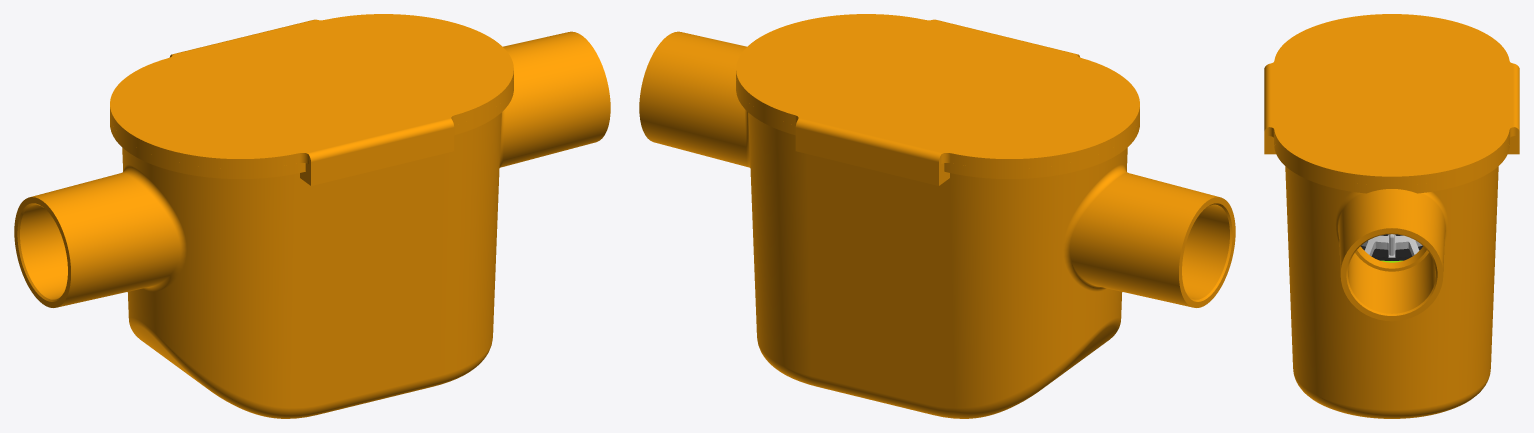
Rendered from cold.glb.
3 renders of one model, left to right at view 1: azimuth 30°, elevation 25°; view 2: azimuth 150°, elevation 25°; view 3: azimuth 270°, elevation 25°, orthographic. The views are drawn at different scales.
Visible parts, largest first — view 1: BA113_MAIN_BODY_A1, COVER_01_123; view 2: BA113_MAIN_BODY_A1, COVER_01_123; view 3: BA113_MAIN_BODY_A1, COVER_01_123, FILTER_45MM, PK505_2INCH_BASE.
Boxes of the visible parts, bbox=[...] form: BA113_MAIN_BODY_A1: bbox=[14, 31, 610, 418]; COVER_01_123: bbox=[110, 14, 513, 185]; BA113_MAIN_BODY_A1: bbox=[639, 31, 1235, 418]; COVER_01_123: bbox=[736, 14, 1139, 185]; BA113_MAIN_BODY_A1: bbox=[1274, 138, 1509, 418]; COVER_01_123: bbox=[1264, 14, 1519, 185]; FILTER_45MM: bbox=[1361, 234, 1422, 257]; PK505_2INCH_BASE: bbox=[1360, 234, 1423, 260].
Bounding box in the file's own units: 0.1696 × 0.085 × 0.077.
